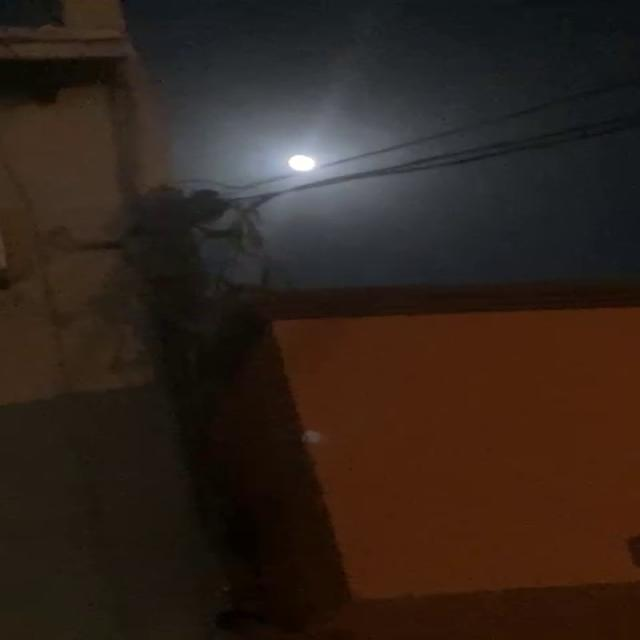moon: (280, 148, 328, 178)
